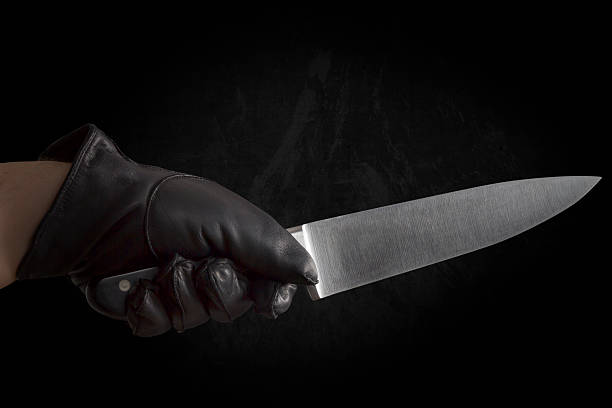knife: (283, 173, 603, 304)
